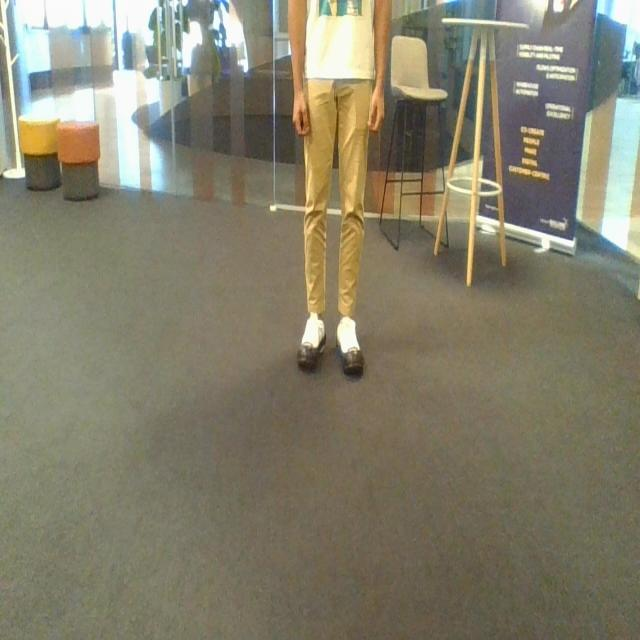shoes: (290, 307, 330, 373), (333, 310, 369, 382)
